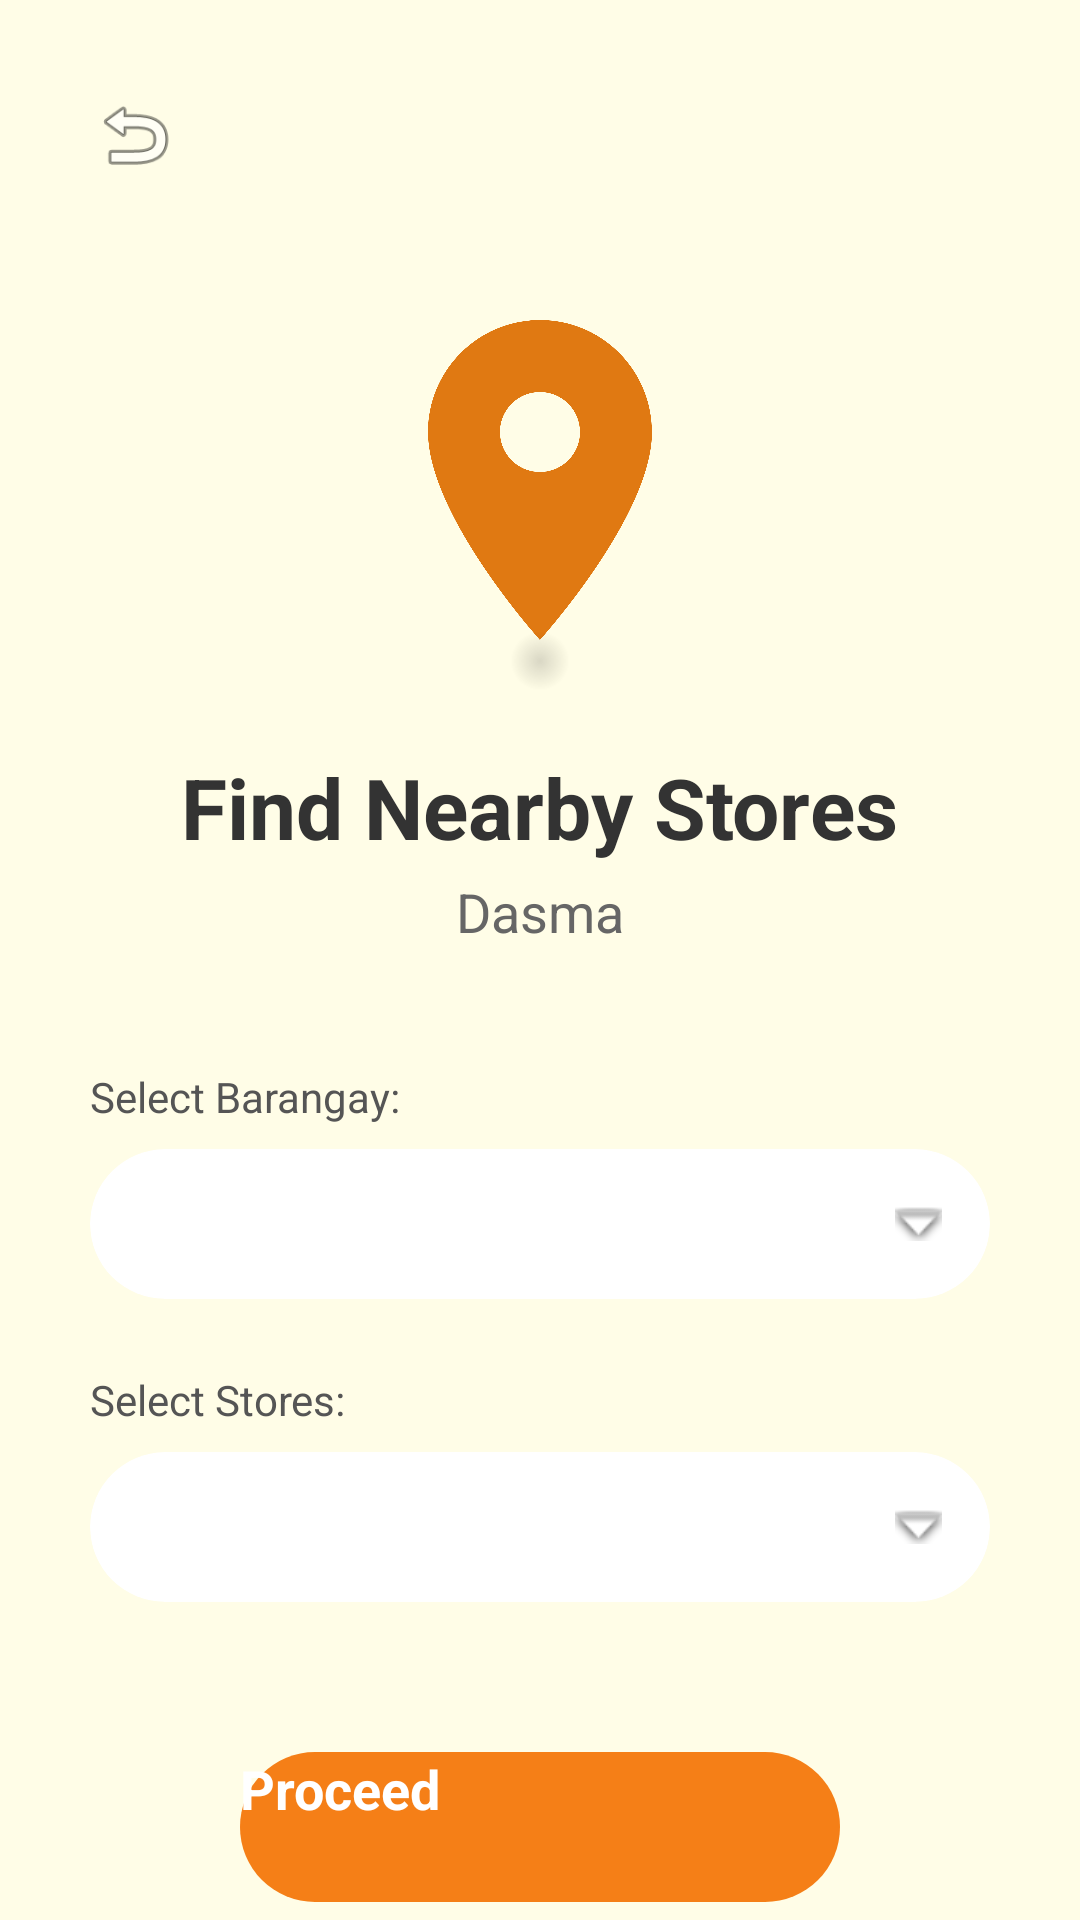

Where to tap for icons on this 1080px x 1920px app screen, as [x,y]:
arrow down float: [918,1224], [918,1527]
Back: [136,135]
